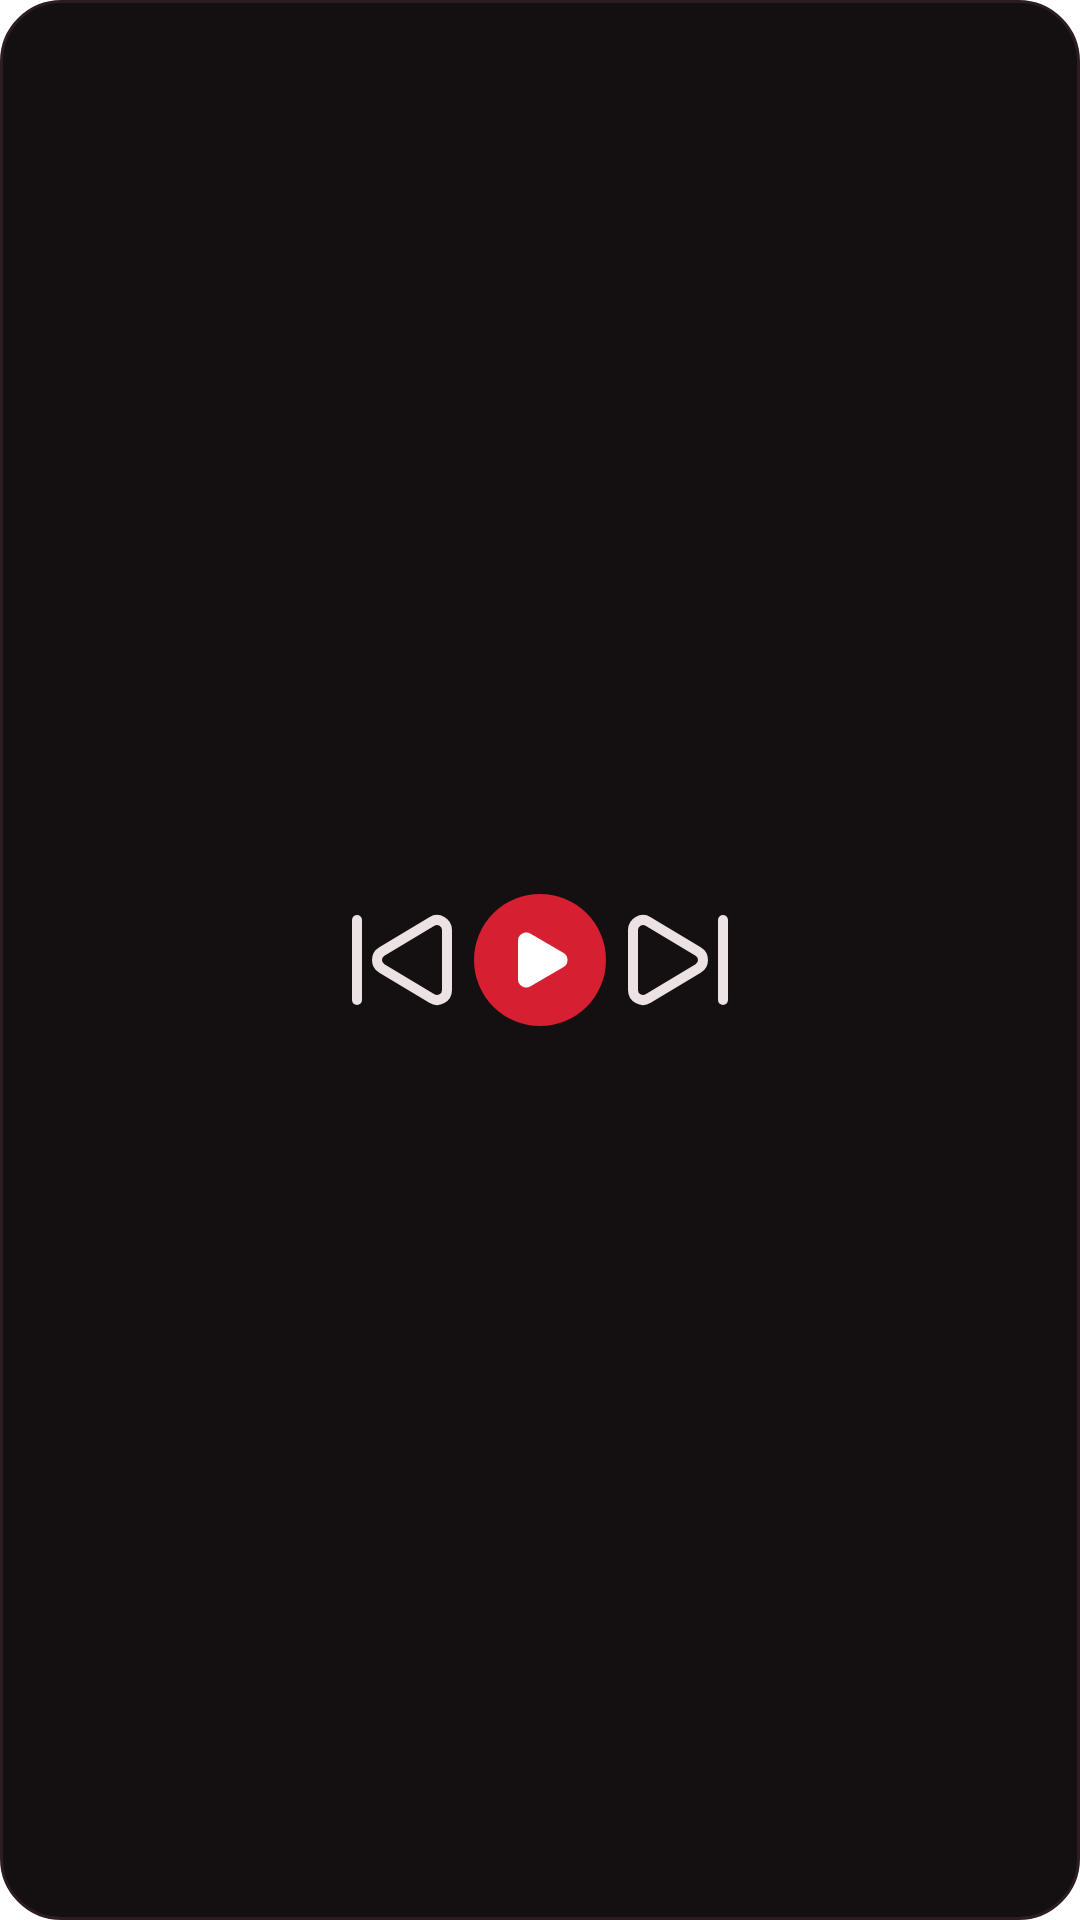

Locate icon controls on the screen. Image size 1080*1920, boxes as (x1, y1, x2, y2).
Anterior: (352, 914, 452, 1006)
Próxima: (628, 914, 728, 1006)
Tocar ou pausar: (474, 894, 606, 1026)
